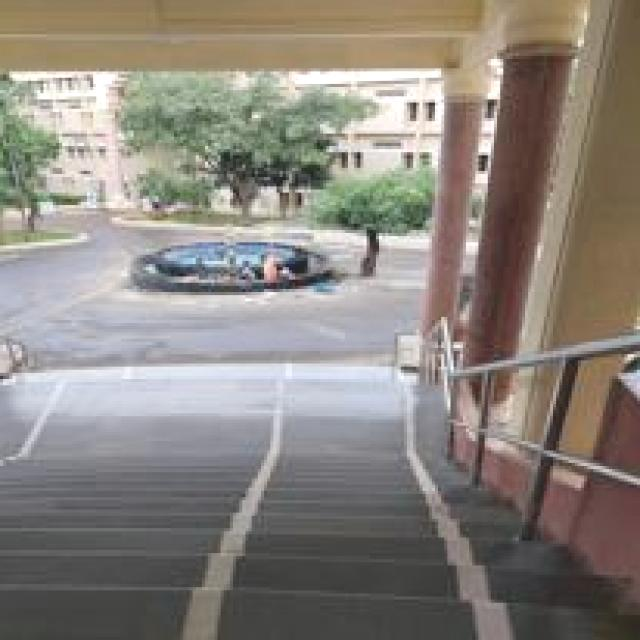downstair: (57, 451, 467, 640)
